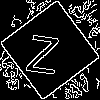Z: (25, 25, 62, 75)
